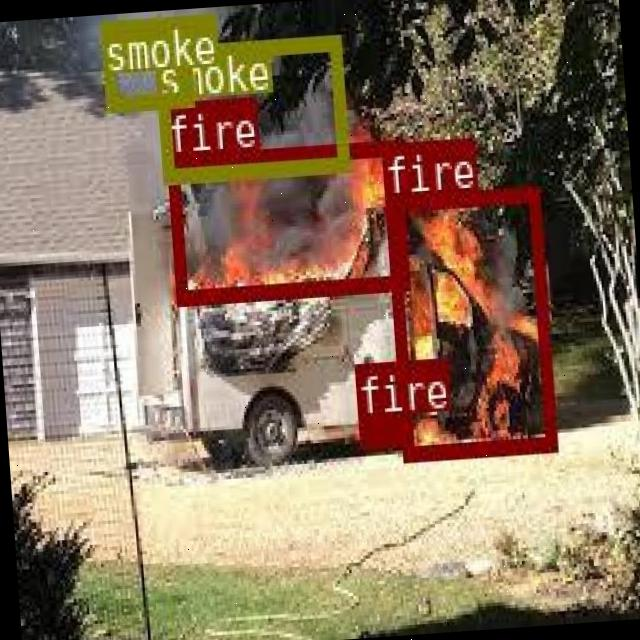fire: (382, 184, 556, 458), (165, 137, 408, 303), (356, 412, 407, 447)
smoke: (152, 32, 346, 183), (100, 14, 192, 108)
